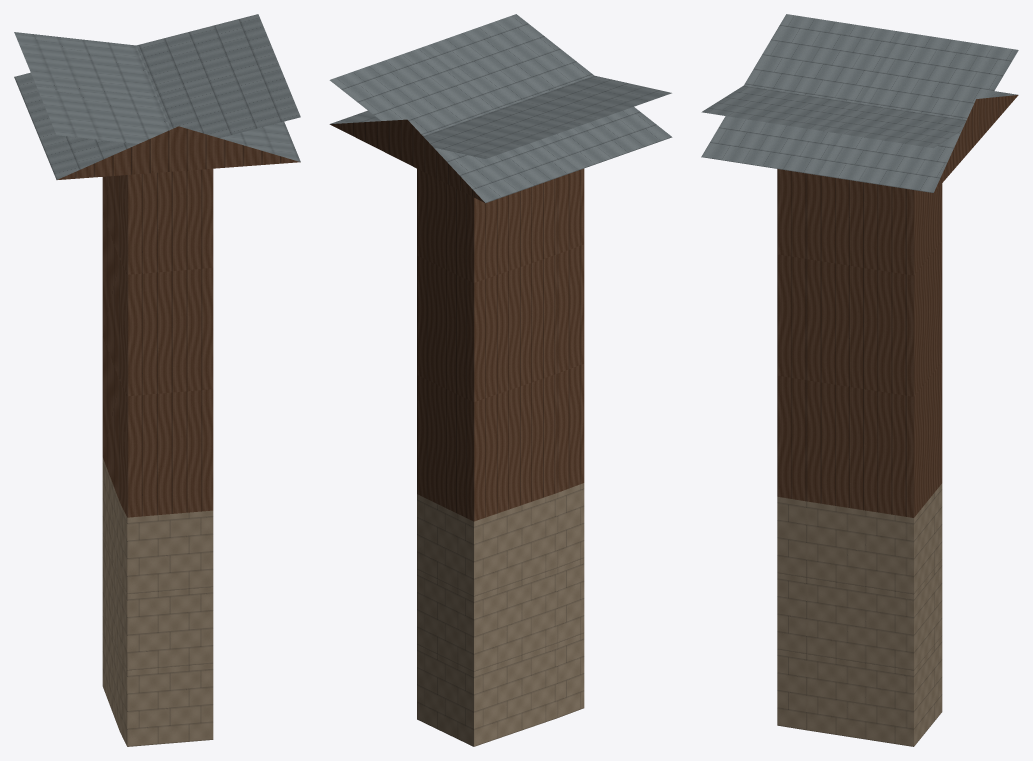
The model's file is bld_c-3_-1_542.gltf.
3 views of the same model, side by side, from view 1: azimuth 30°, elevation 25°; view 2: azimuth 150°, elevation 25°; view 3: azimuth 270°, elevation 25° (orthographic).
Visible parts, largest first — view 1: bld_c-3_-1_542; view 2: bld_c-3_-1_542; view 3: bld_c-3_-1_542.
Boxes of the visible parts, x1=… form: bld_c-3_-1_542: x1=14, y1=14, x2=300, y2=746; bld_c-3_-1_542: x1=329, y1=14, x2=672, y2=746; bld_c-3_-1_542: x1=701, y1=14, x2=1018, y2=746.
Bounding box in the file's own units: 6.41 × 14.2 × 6.41.
Materials: 4 (4 with a texture image).
